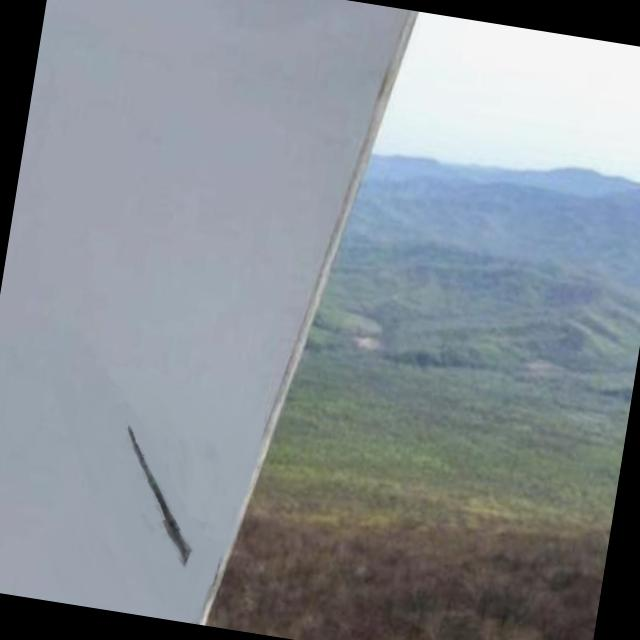crack: (106, 421, 213, 568)
